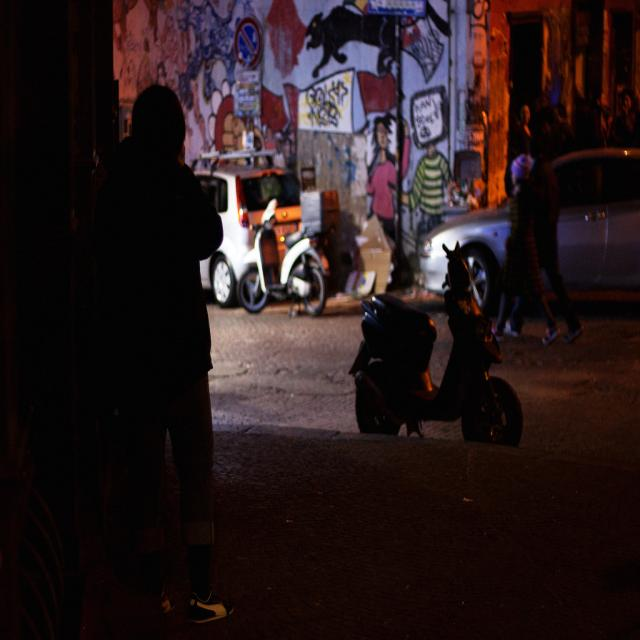Motorbike: (303, 262, 530, 449), (219, 197, 365, 336)
